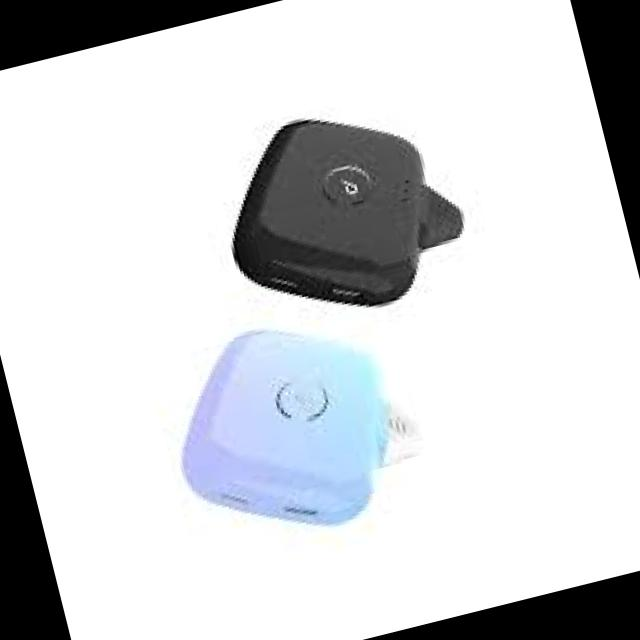portable-charger: (146, 289, 444, 563), (198, 80, 484, 340)
